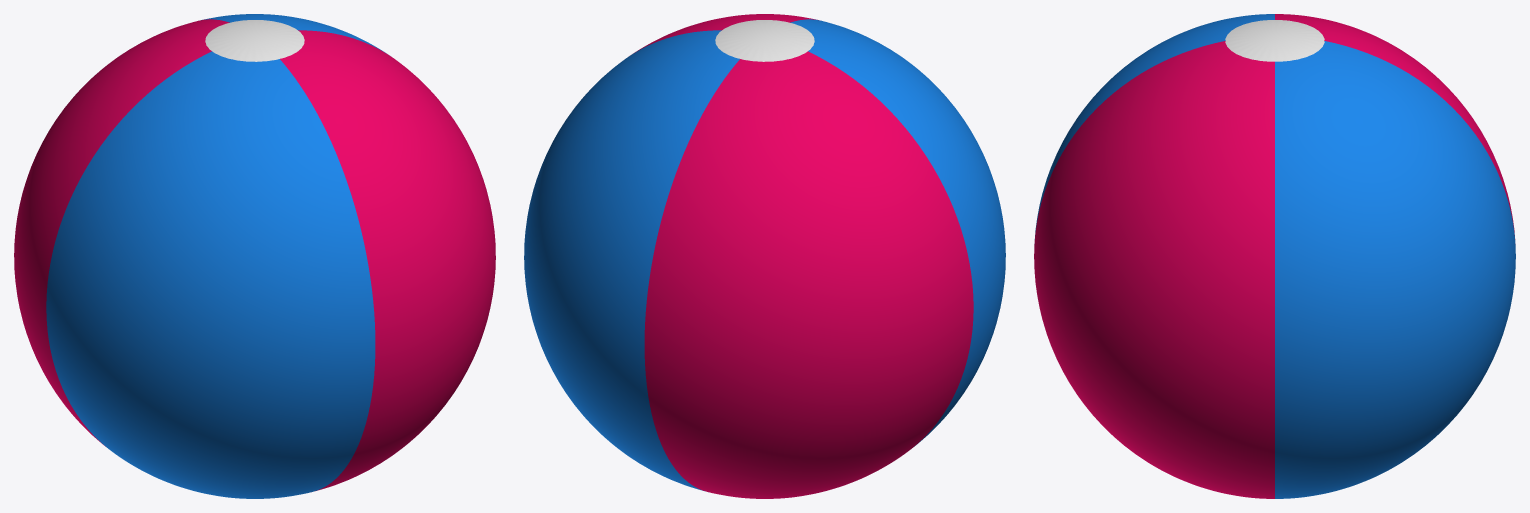
File: beach.glb
The picture shows the model from 3 angles, left to right: view 1: azimuth 30°, elevation 25°; view 2: azimuth 150°, elevation 25°; view 3: azimuth 270°, elevation 25°; orthographic projection.
Parts seen in each view (by area): view 1: waterball.001; view 2: waterball.001; view 3: waterball.001.
Part boxes in pixels (x1,y1,x2,y2): waterball.001: (14,14,495,498); waterball.001: (524,14,1005,498); waterball.001: (1034,14,1515,498).
Size of the model in its own units: 1.98 by 2 by 1.98.
